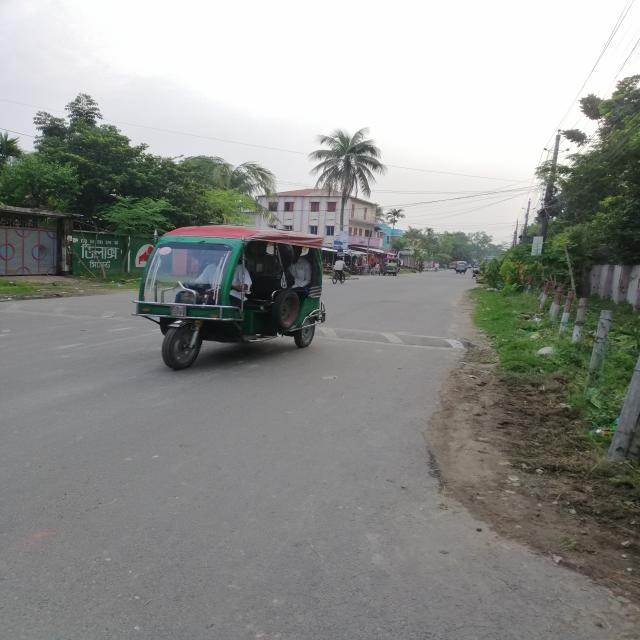Easybike: (103, 205, 352, 402)
